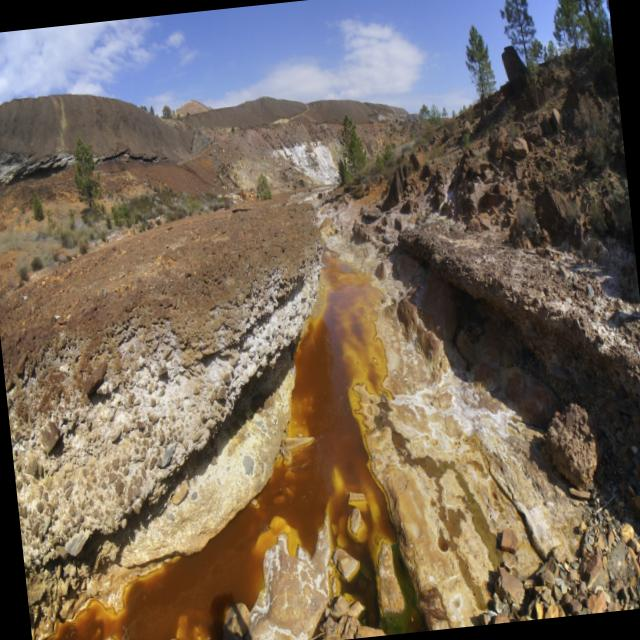yellow_boy: (51, 251, 395, 640)
